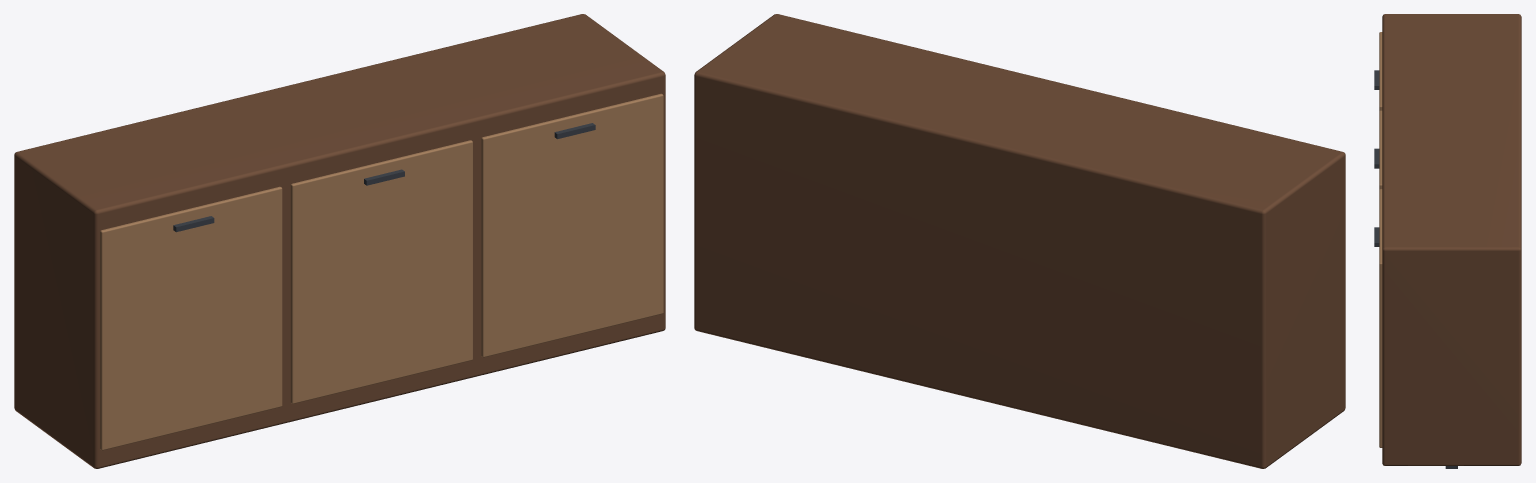
Rendered from Credenza.fbx.
3 views of the same model, side by side, from view 1: azimuth 30°, elevation 25°; view 2: azimuth 150°, elevation 25°; view 3: azimuth 270°, elevation 25° (orthographic). The views are drawn at different scales.
Parts seen in each view (by area): view 1: CredenzaBody, Door__swap.001, Door, Door__swap.002; view 2: CredenzaBody; view 3: CredenzaBody, Door__swap.001, Door, Door__swap.002.
Part boxes in pixels (left/top/right/bottom): CredenzaBody: left=14, top=14, right=665, bottom=468; Door__swap.001: left=481, top=93, right=663, bottom=357; Door: left=100, top=186, right=282, bottom=450; Door__swap.002: left=290, top=140, right=472, bottom=403; CredenzaBody: left=694, top=14, right=1345, bottom=468; CredenzaBody: left=1374, top=14, right=1521, bottom=468; Door__swap.001: left=1379, top=189, right=1382, bottom=447; Door: left=1379, top=32, right=1382, bottom=110; Door__swap.002: left=1379, top=110, right=1382, bottom=189.
Bounding box in the file's own units: 1.8 × 0.8 × 0.475.
